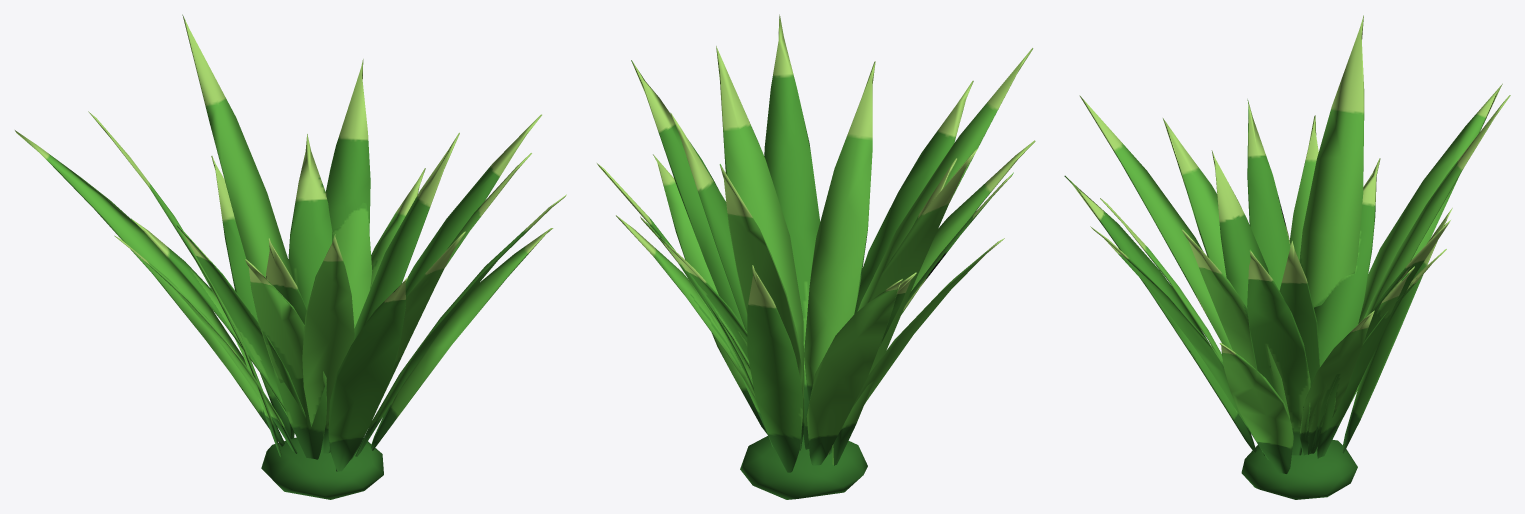
Rendered from TuftLawn.fbx.
3 renders of one model, left to right at view 1: azimuth 30°, elevation 25°; view 2: azimuth 150°, elevation 25°; view 3: azimuth 270°, elevation 25°, orthographic. The views are drawn at different scales.
Parts seen in each view (by area): view 1: TuftLawn; view 2: TuftLawn; view 3: TuftLawn.
Part boxes in pixels (left/top/right/bottom): TuftLawn: left=15, top=14, right=566, bottom=499; TuftLawn: left=597, top=14, right=1035, bottom=499; TuftLawn: left=1064, top=15, right=1510, bottom=499.
Size of the model in its own units: 1.81 by 1.76 by 1.86.
1 material, 1 textured.
